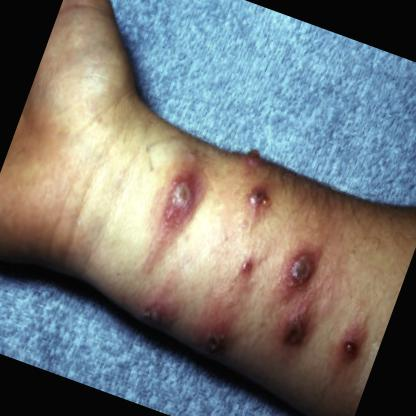Warts: (156, 160, 208, 224), (268, 308, 316, 368), (279, 243, 325, 294), (328, 324, 366, 373), (238, 180, 276, 224)
